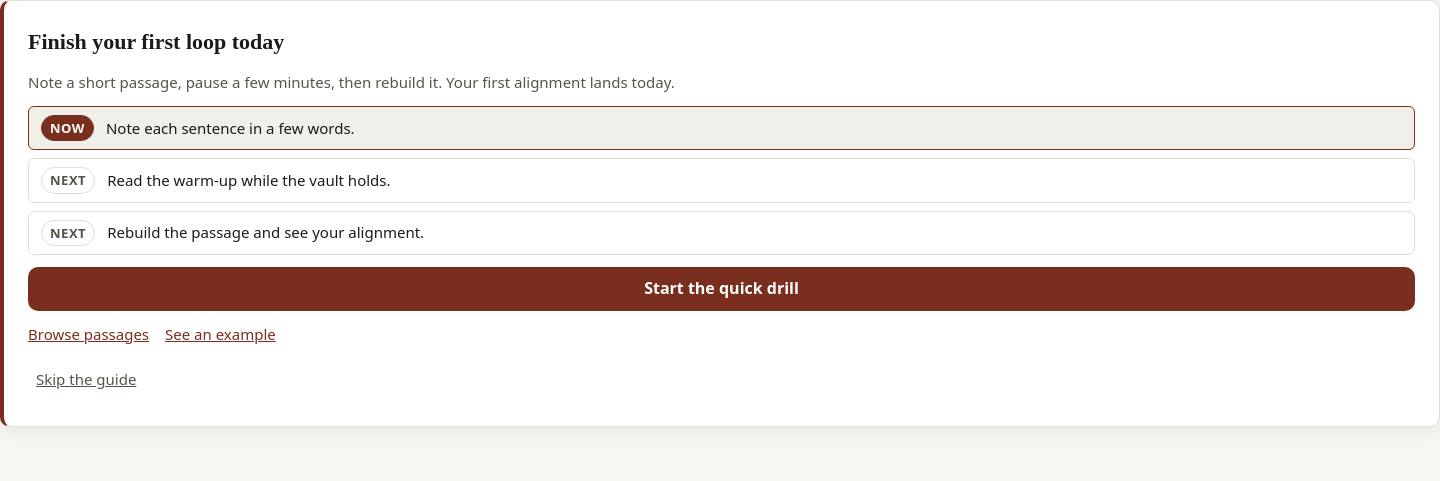
Test: FirstRunGuide › shows a next step when starting the drill fails, and re-enables the action
Click the button "Start the quick drill" at (722, 289), box [28,267,1415,311]
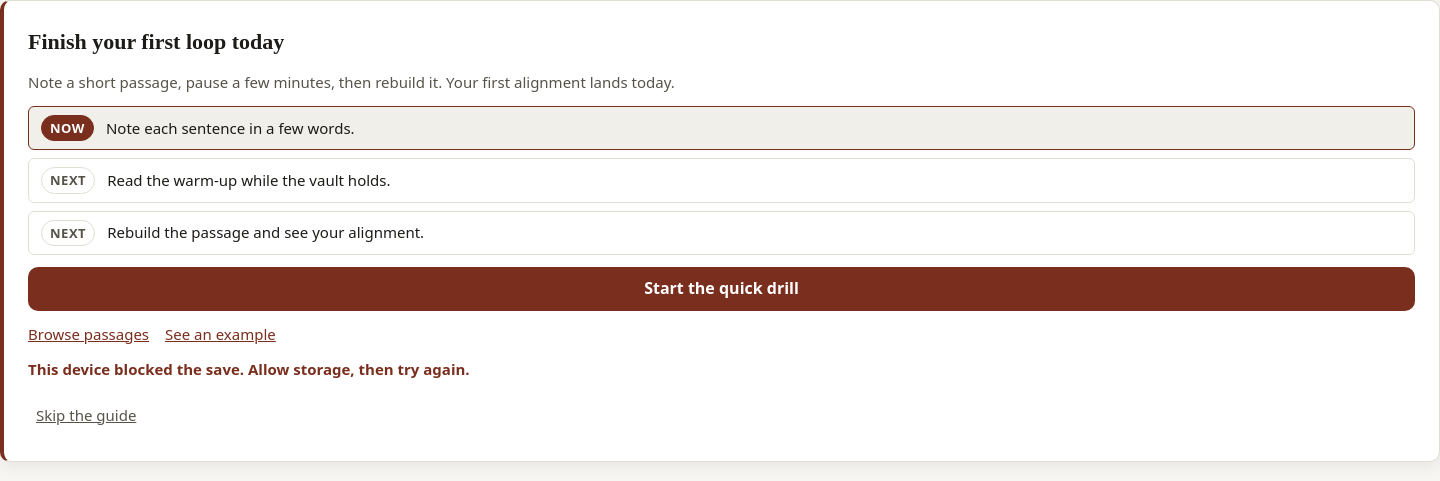
Now the message shows "Allow storage, then try again", box [28,359,470,379]
